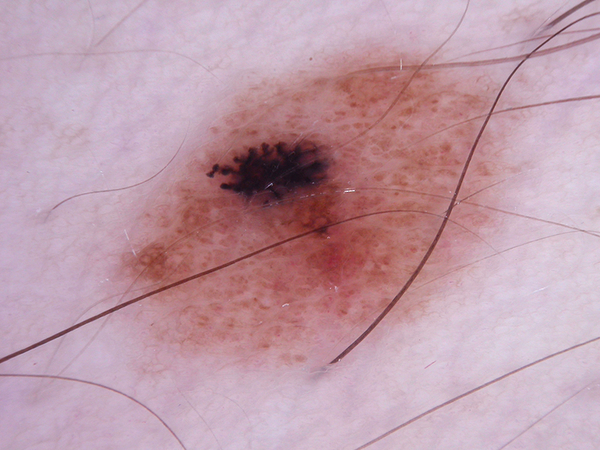Detected Lesion: (112, 56, 514, 369)
